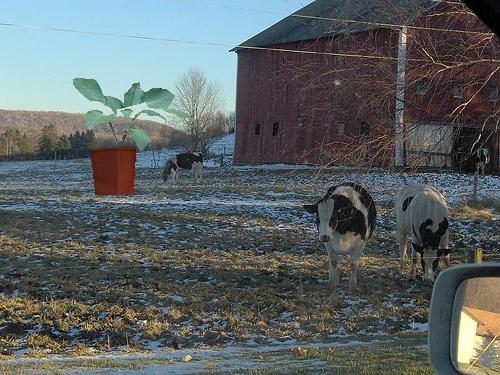tampered: (74, 79, 196, 195)
